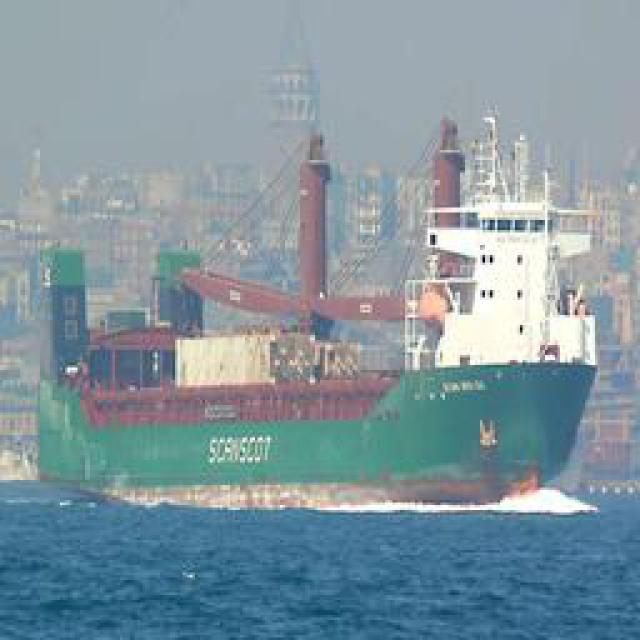Ship: (46, 55, 604, 510)
